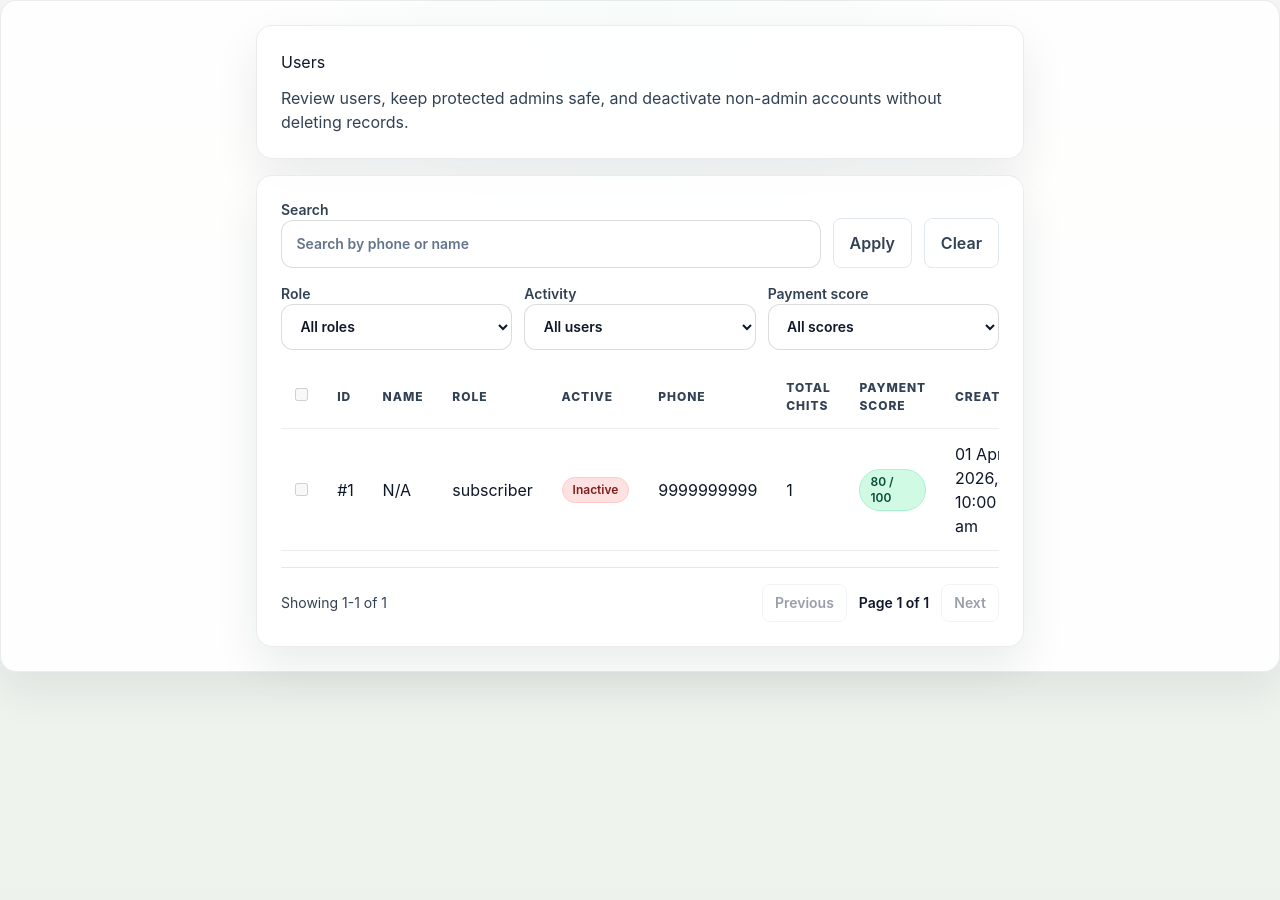
UsersPage lets admins refine the directory by role
Expected: the text "9999999999" is shown, top-left (644, 428), bottom-right (772, 551)
Select "Owner" in the dropdown labelled "Role" at (397, 327), box top-left (281, 304), bottom-right (512, 350)
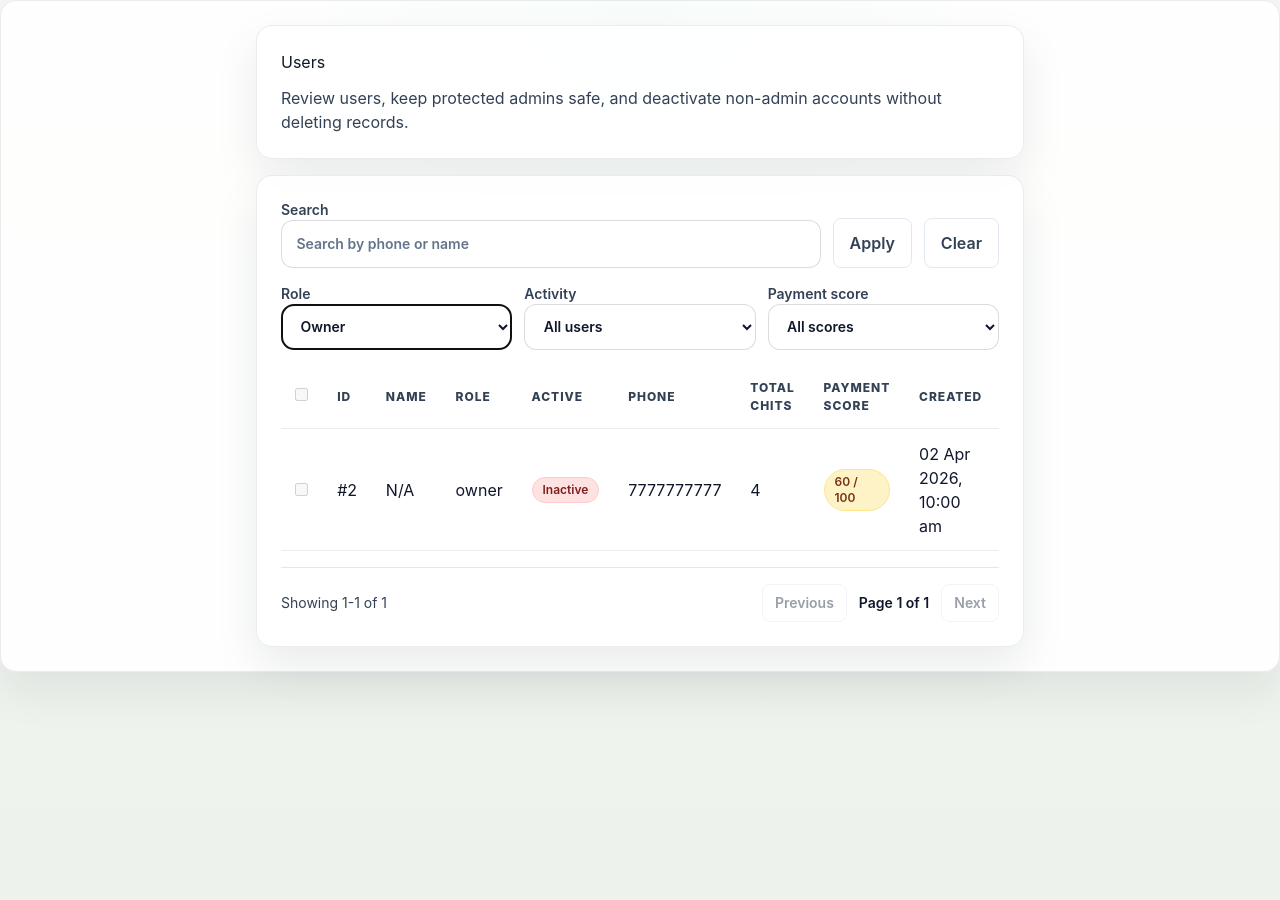
Result: the text "7777777777" is shown at top-left (614, 428), bottom-right (736, 551)
